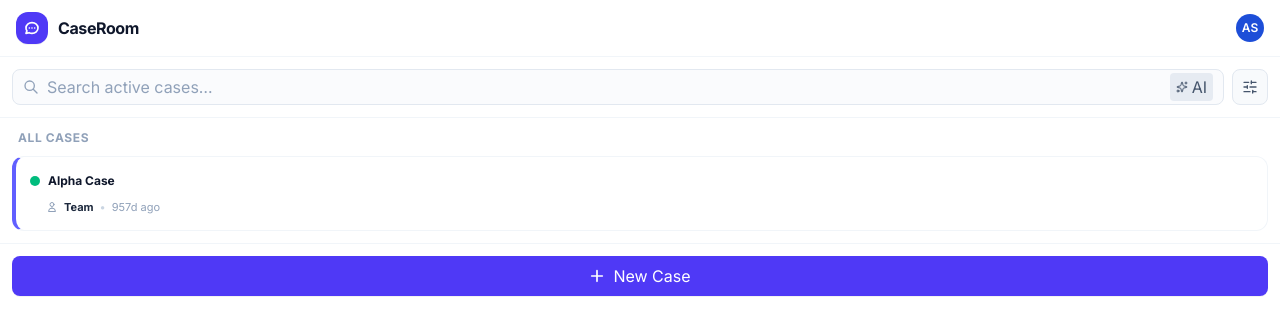
Test: CaseSidebar — search filter › shows no-match message when search yields nothing
Step 1. Type "xyz" into the search field named "filter cases" → (604, 87), box [47,75,1162,99]
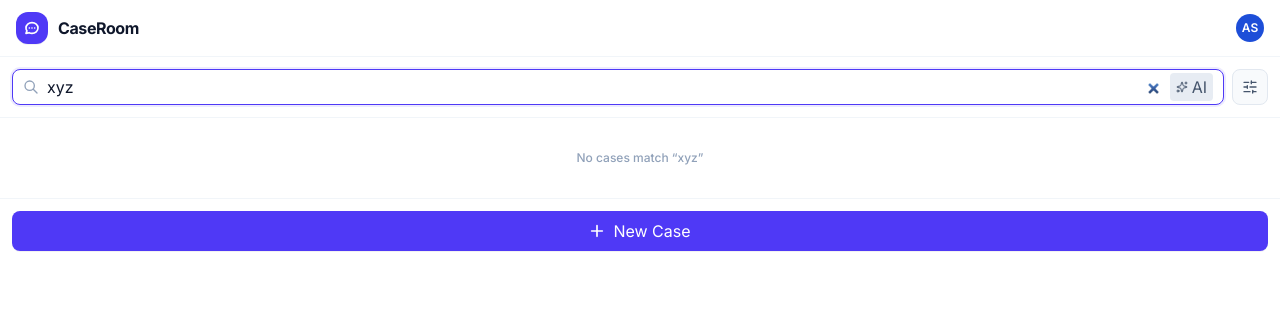
Check: the text "No cases match “xyz”" is shown, box [576,150,704,165]
